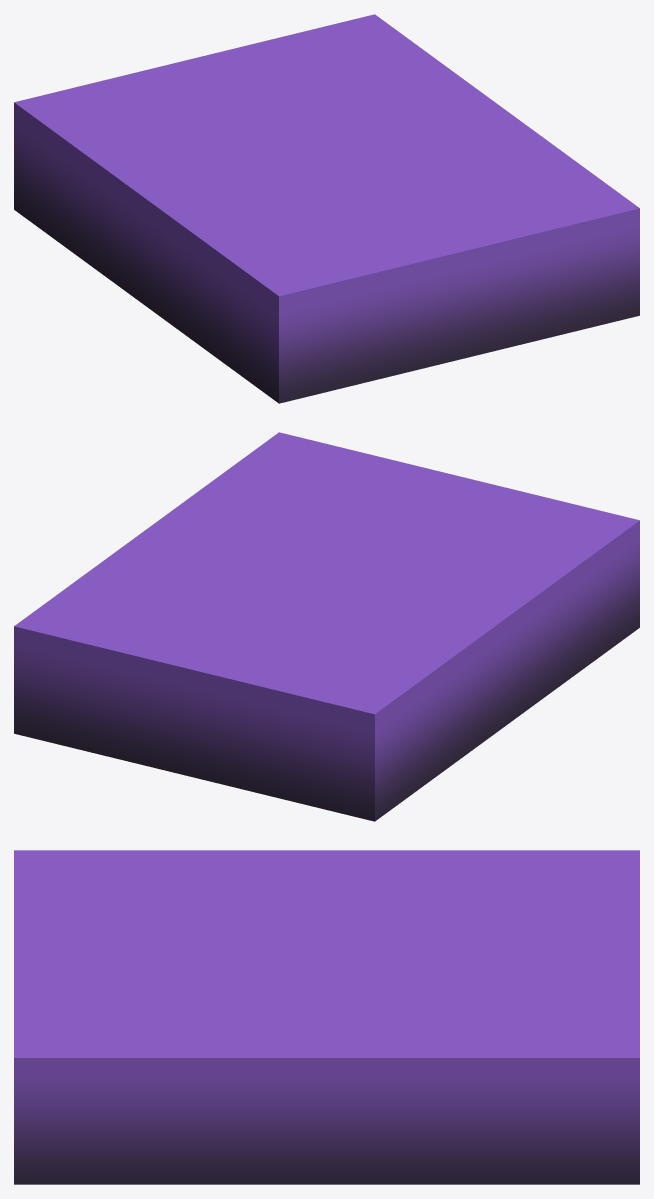
The model's file is Plat01.019.glb.
The picture shows the model from 3 angles, top to bottom: view 1: azimuth 30°, elevation 25°; view 2: azimuth 150°, elevation 25°; view 3: azimuth 270°, elevation 25°; orthographic projection. The views are drawn at different scales.
Parts seen in each view (by area): view 1: Plat01.019; view 2: Plat01.019; view 3: Plat01.019.
Boxes of the visible parts, x1,y1,x2,y2 form: Plat01.019: (14,14,639,403); Plat01.019: (14,432,639,821); Plat01.019: (14,850,639,1184).
Size of what is drawn, in the model's own units: 1.31 by 0.3733 by 1.67.
Materials: 1 (1 with a texture image).
